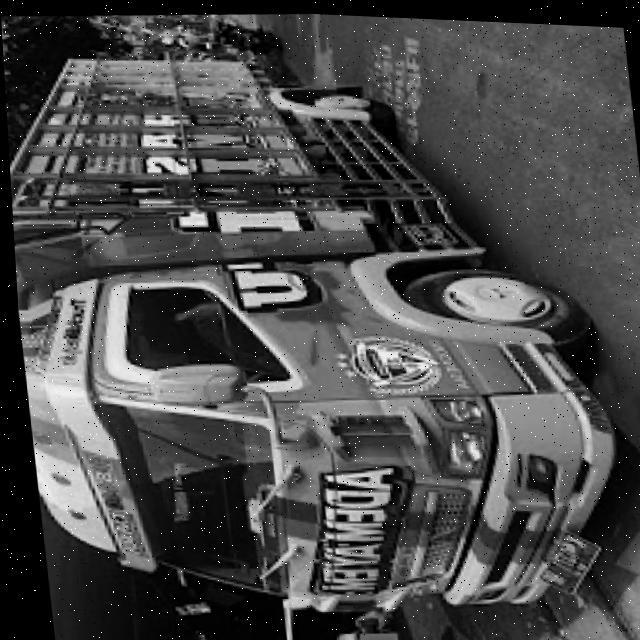truck: (1, 29, 632, 640)
